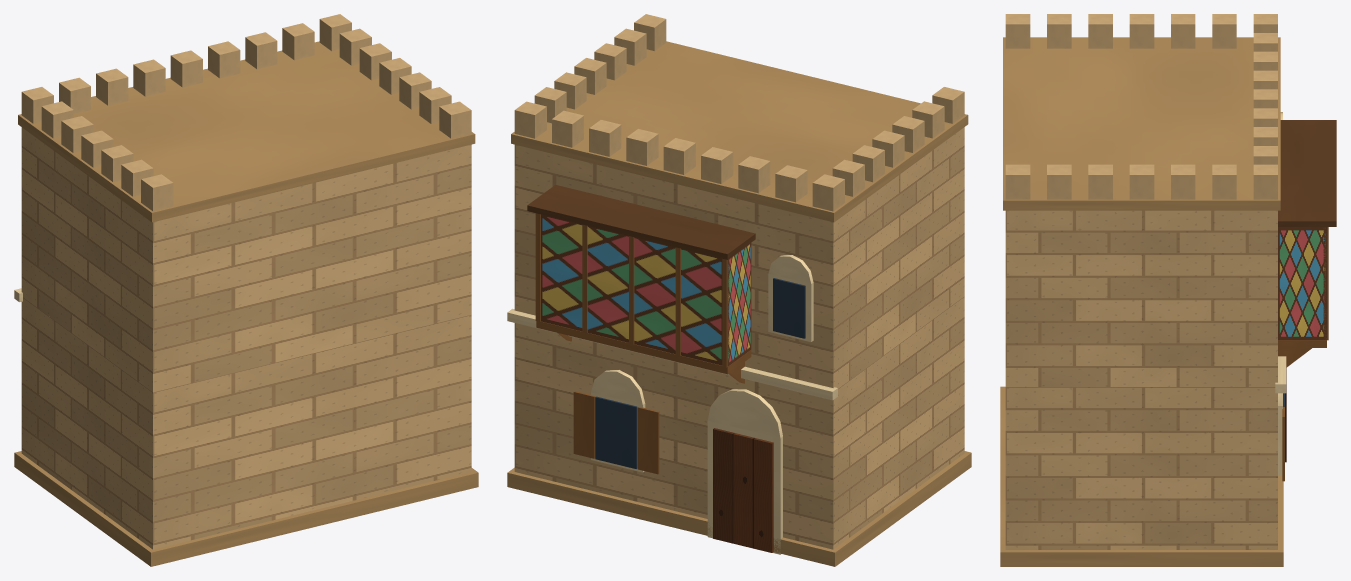
The model's file is env_baku_house_a.glb.
3 views of the same model, side by side, from view 1: azimuth 30°, elevation 25°; view 2: azimuth 150°, elevation 25°; view 3: azimuth 270°, elevation 25° (orthographic). The views are drawn at different scales.
Parts seen in each view (by area): view 1: env_baku_house_a; view 2: env_baku_house_a; view 3: env_baku_house_a.
Boxes of the visible parts, x1,y1,x2,y2 form: env_baku_house_a: (14,14,478,566); env_baku_house_a: (507,14,971,566); env_baku_house_a: (1000,14,1336,566).
Bounding box in the file's own units: 7.2 × 7.92 × 6.18.
Materials: 1 (1 with a texture image).
